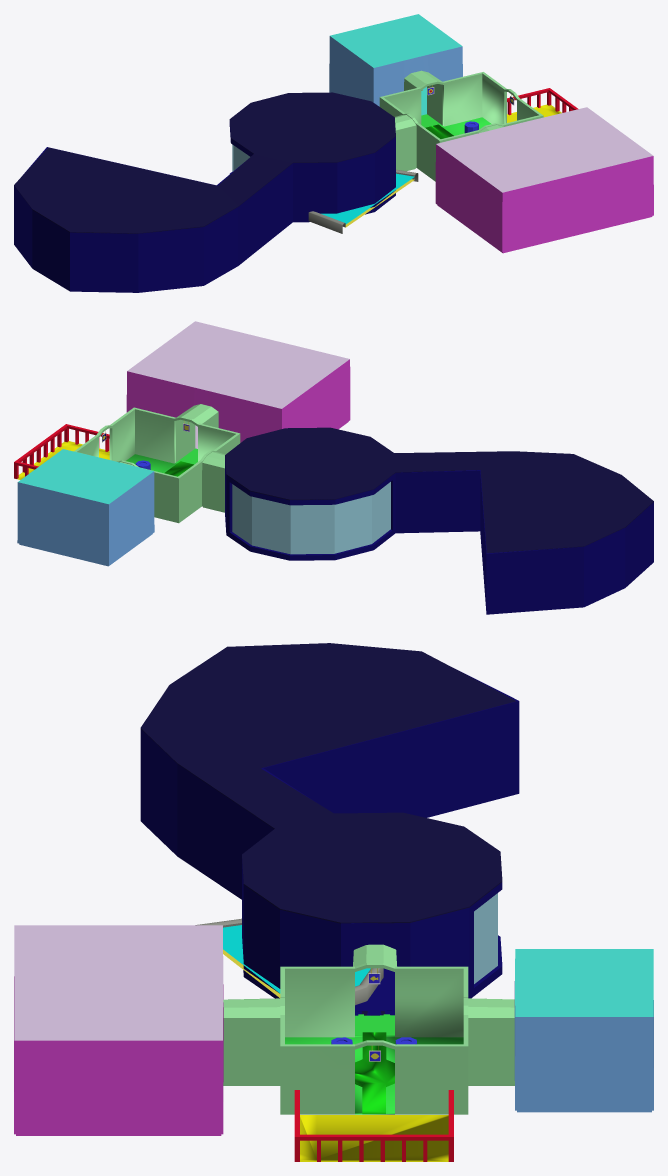
Rendered from VRProject_ver3(1).fbx.
3 views of the same model, one above another, from view 1: azimuth 30°, elevation 25°; view 2: azimuth 150°, elevation 25°; view 3: azimuth 270°, elevation 25° (orthographic). The views are drawn at different scales.
Visible parts, largest first — view 1: VR_Map; view 2: VR_Map; view 3: VR_Map.
Part boxes in pixels (box(x1,y1,x2,y2)): VR_Map: box(14, 14, 653, 292); VR_Map: box(14, 321, 653, 614); VR_Map: box(14, 643, 653, 1161).
Size of the model in its own units: 8857 by 934 by 5628.
